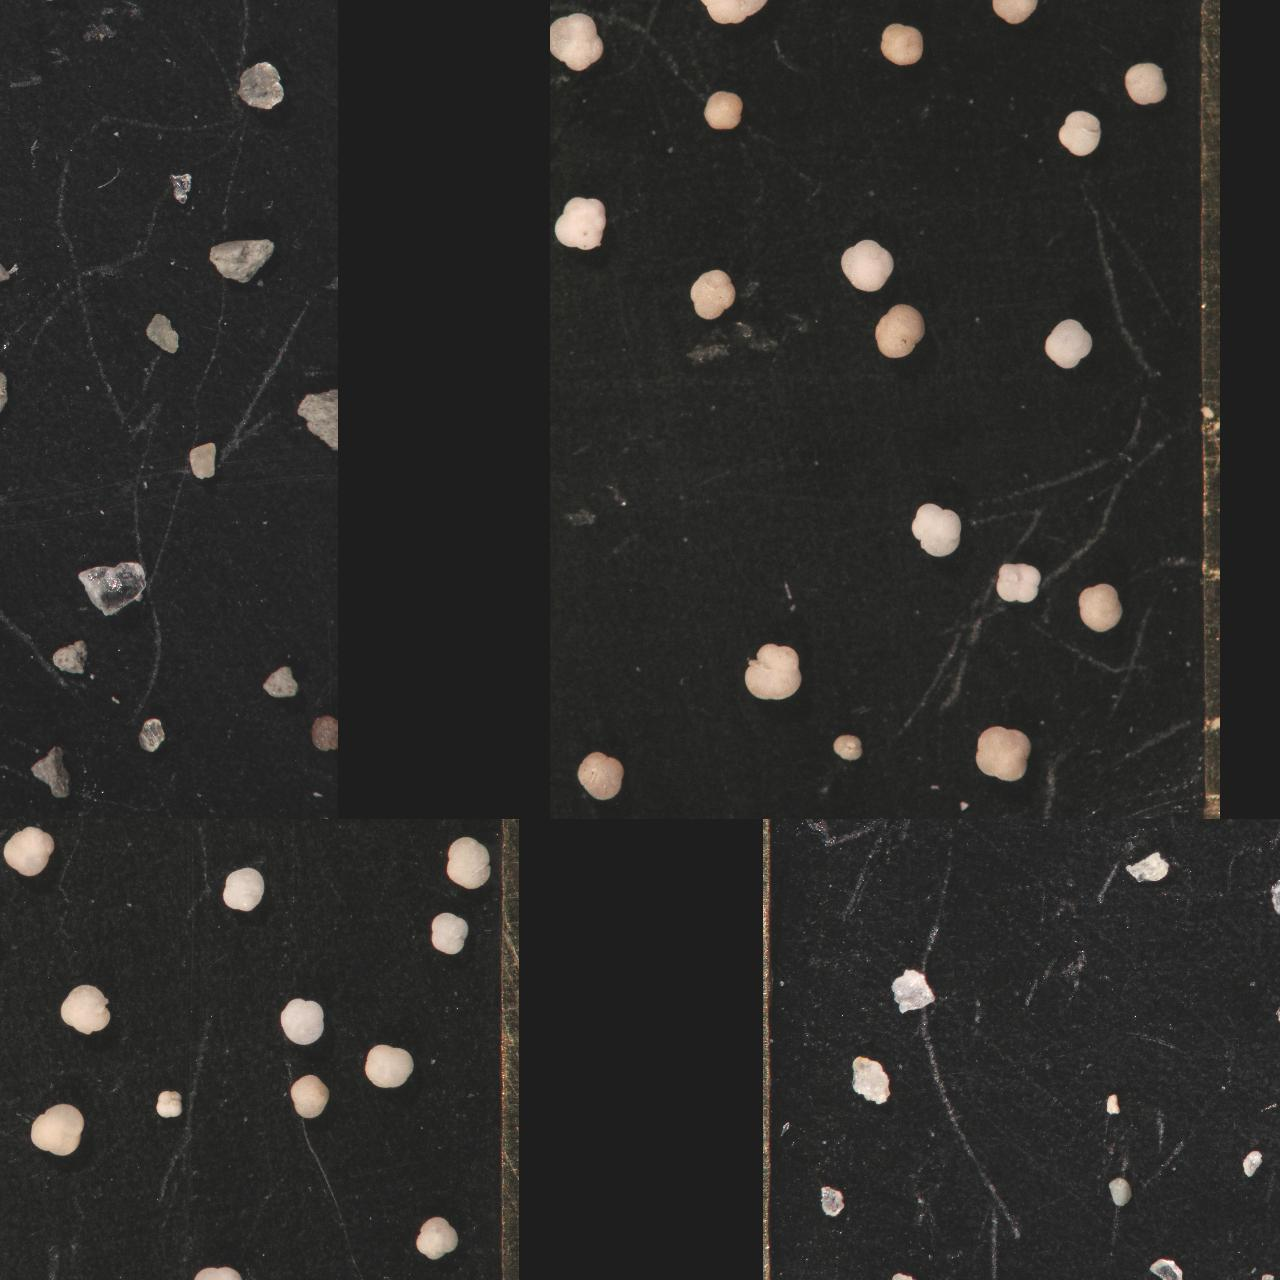Sediment: (75, 559, 150, 619), (0, 0, 59, 57), (207, 238, 277, 286), (297, 387, 338, 451), (238, 60, 286, 113), (30, 744, 70, 799), (851, 1055, 892, 1108), (892, 967, 937, 1015), (4, 0, 72, 30), (0, 356, 27, 428), (0, 0, 32, 60), (141, 311, 181, 355), (812, 819, 863, 855), (0, 421, 25, 492), (0, 121, 27, 185), (0, 481, 27, 545), (1123, 850, 1169, 886), (50, 636, 89, 678), (0, 710, 23, 777), (0, 0, 41, 38), (259, 663, 300, 700), (0, 251, 36, 290), (0, 543, 22, 604), (186, 441, 219, 482), (0, 302, 23, 356), (136, 715, 165, 755), (0, 469, 23, 517), (309, 713, 338, 751), (938, 819, 992, 839), (0, 30, 21, 81), (0, 697, 26, 738), (0, 570, 26, 610), (168, 171, 195, 207), (181, 0, 222, 23), (818, 1185, 846, 1219), (1107, 1176, 1133, 1211), (0, 0, 34, 27), (22, 0, 61, 23), (0, 595, 19, 644), (118, 0, 164, 19), (0, 617, 19, 662), (1149, 1257, 1185, 1280), (305, 0, 338, 26), (0, 205, 21, 244), (0, 0, 33, 25), (0, 615, 21, 653), (63, 0, 102, 18), (0, 151, 18, 190), (0, 0, 28, 23), (981, 819, 1015, 838), (1269, 874, 1280, 934), (0, 472, 19, 505), (1078, 819, 1109, 839), (1241, 1150, 1262, 1178), (856, 819, 891, 836), (1189, 819, 1217, 838), (1073, 819, 1099, 838), (0, 641, 15, 674), (0, 362, 18, 389), (1142, 819, 1172, 835), (1104, 1089, 1121, 1117), (0, 90, 15, 120), (0, 0, 20, 22), (962, 819, 993, 833), (0, 647, 13, 680), (0, 722, 15, 748), (1226, 819, 1247, 837), (888, 1269, 922, 1280), (1238, 1271, 1275, 1280), (1228, 819, 1253, 832), (1027, 819, 1051, 830), (0, 0, 15, 16), (0, 0, 15, 16), (1266, 819, 1280, 833), (1275, 999, 1280, 1030)
planktic: (742, 641, 802, 702), (974, 723, 1032, 783), (27, 1101, 86, 1157), (550, 11, 604, 72), (839, 237, 896, 293), (873, 302, 926, 362), (552, 195, 606, 252), (57, 981, 113, 1036), (910, 501, 962, 557), (444, 835, 496, 892), (1, 825, 55, 878), (1042, 316, 1094, 372), (697, 0, 772, 36), (688, 267, 736, 322), (576, 749, 625, 802), (278, 996, 327, 1049), (1076, 581, 1124, 634), (363, 1041, 415, 1089), (220, 865, 268, 914), (414, 1216, 461, 1262), (1122, 61, 1167, 109), (1056, 109, 1102, 157), (290, 1073, 333, 1121), (880, 21, 924, 67), (996, 561, 1042, 605), (429, 911, 469, 955), (704, 89, 744, 132), (288, 819, 347, 849), (0, 1227, 30, 1280), (0, 899, 27, 956), (550, 559, 578, 613), (888, 0, 944, 27), (30, 819, 87, 845), (1119, 0, 1175, 25), (990, 0, 1039, 26), (297, 819, 345, 845), (586, 0, 639, 23), (0, 941, 22, 995), (222, 819, 268, 844), (627, 0, 672, 25), (256, 819, 305, 842), (418, 819, 462, 844), (979, 0, 1023, 23), (831, 731, 863, 763), (550, 749, 572, 794), (139, 819, 182, 843), (154, 1089, 184, 1121), (191, 1262, 245, 1280), (550, 324, 571, 368), (802, 0, 847, 20), (550, 0, 578, 30), (0, 819, 28, 847), (550, 0, 576, 26), (550, 0, 576, 26), (550, 540, 563, 592), (0, 819, 28, 843), (0, 819, 26, 844), (0, 819, 23, 843), (76, 819, 105, 836), (0, 819, 21, 842), (0, 1259, 22, 1280)
